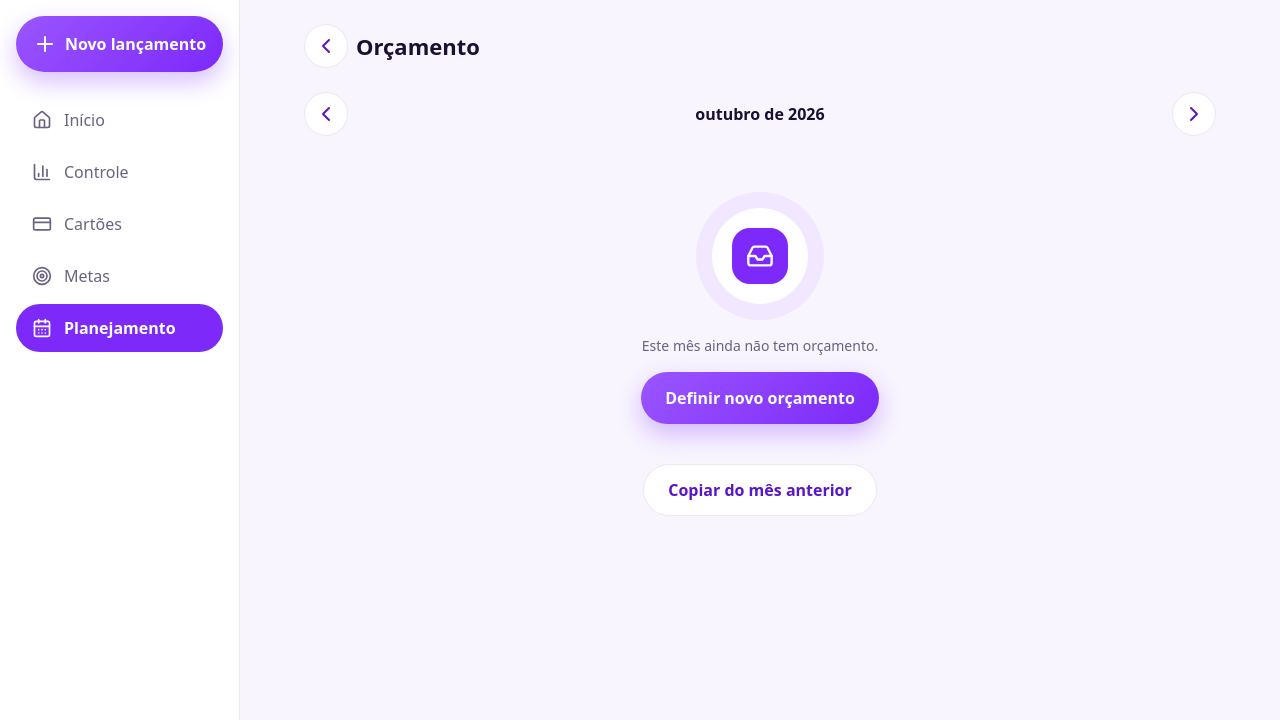
Test case: Orcamento: copiar do mês anterior (CA-7.08) › mês vazio: copia sem substituir e passa a mostrar o orçamento criado
Step 1. Click the button "Copiar do mês anterior" → (760, 490), box x1=643 y1=464 x2=877 y2=516
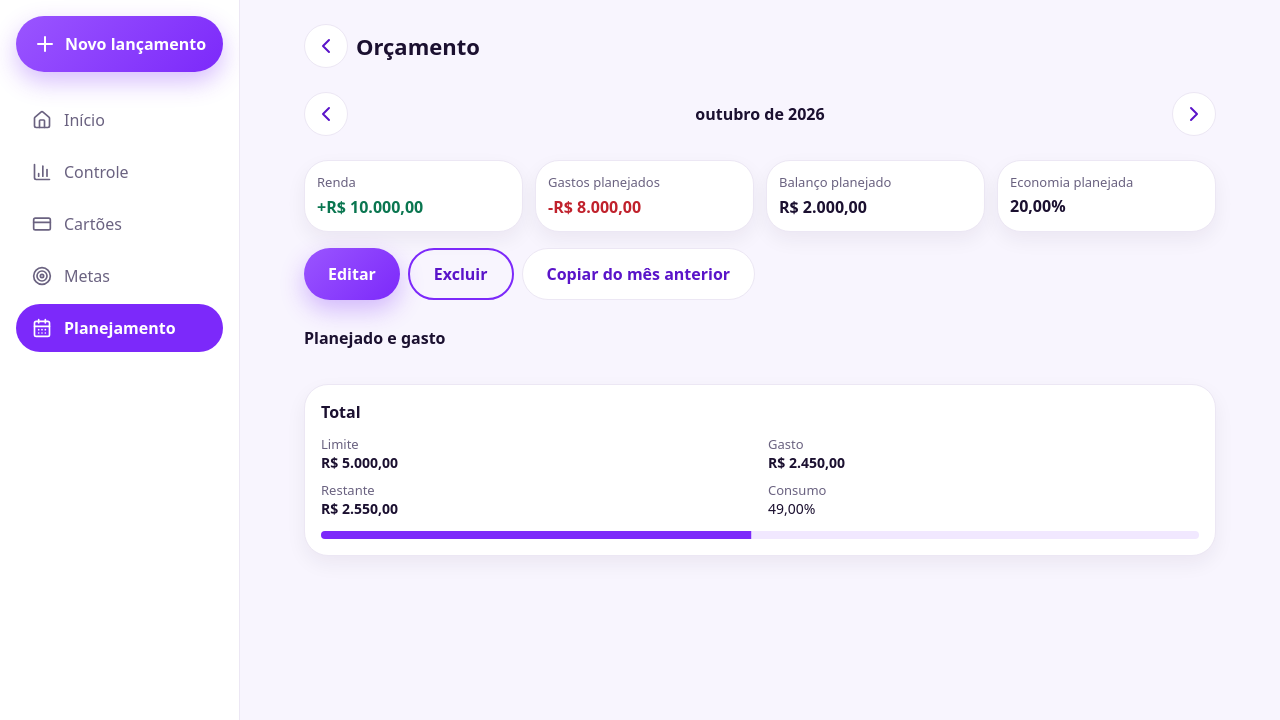
Expected: the text "+R$ 10.000,00" is shown, x1=317 y1=195 x2=423 y2=219
